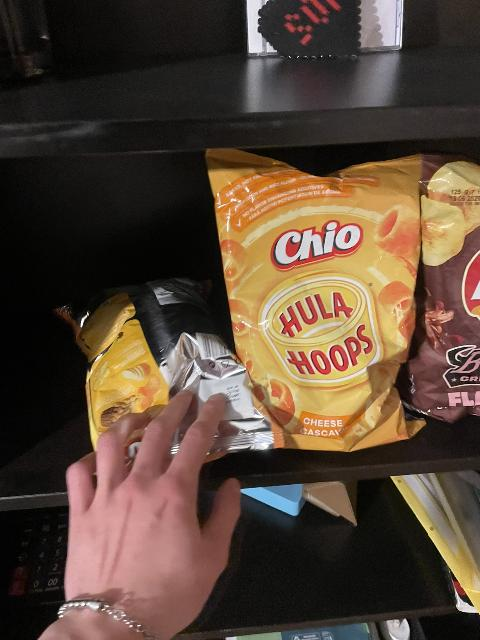Chio Cascaval 125g: (60, 277, 271, 461)
Chio Hula Hoops Cheese 70g: (206, 151, 431, 437)
Lays Beef Grilled Ribs 125g: (399, 152, 480, 425)
